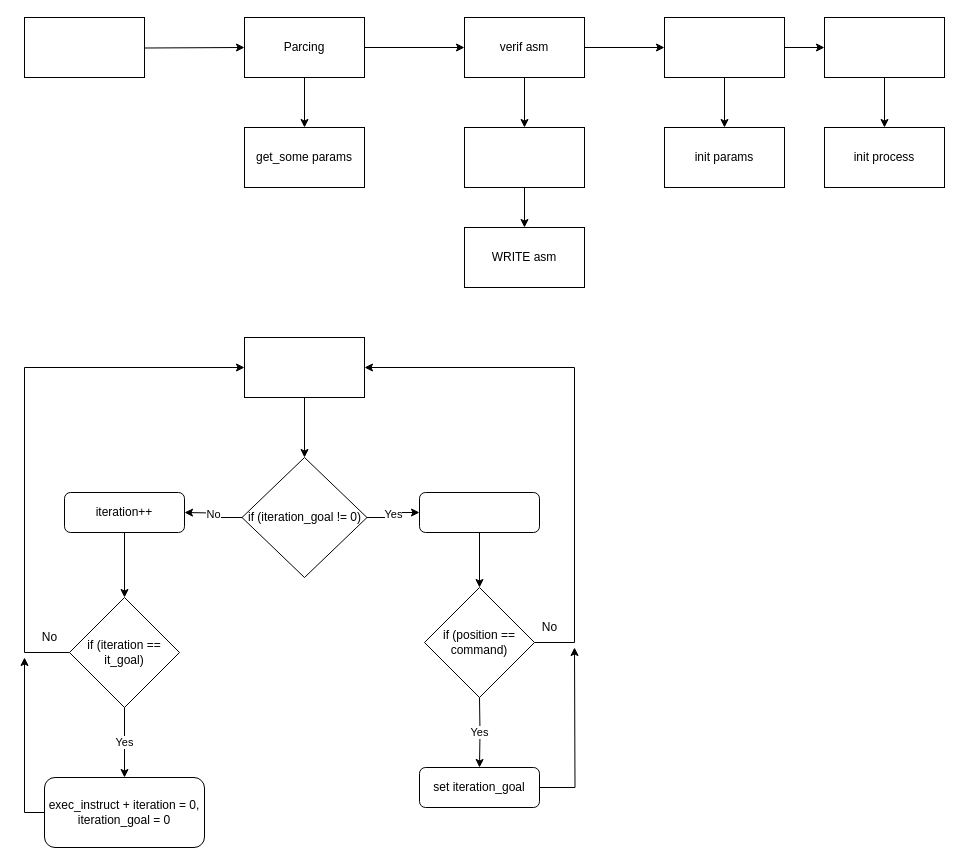
This 962x865 diagram has some shape labels left out. Each missing label, with the centre of its shape:
"init champion" goes at (884,47).
"LOAD asm" goes at (524,157).
"position++" goes at (479,512).
"VM initialisation" goes at (724,47).
"VM Loop" goes at (304,367).
"VM Start" goes at (84,47).
